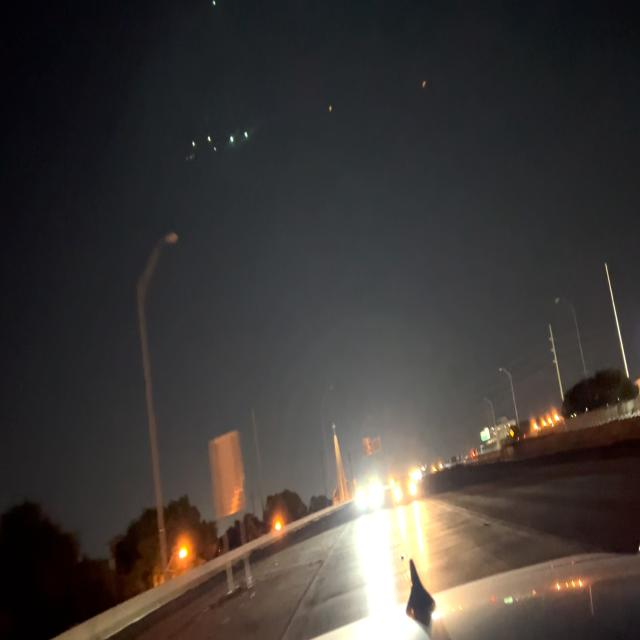back-of-sign: (208, 432, 250, 523)
